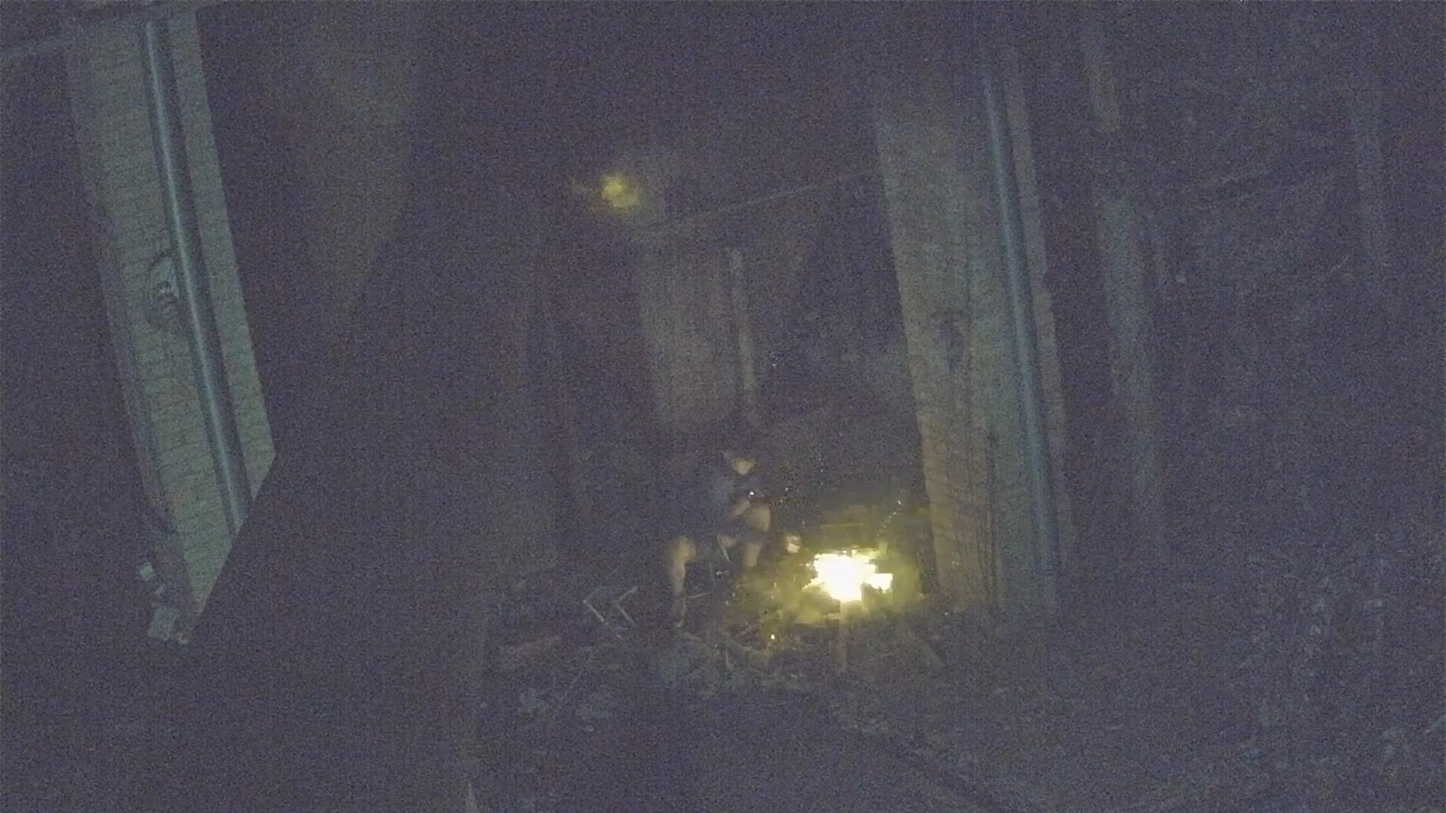fire: (814, 551, 891, 668)
